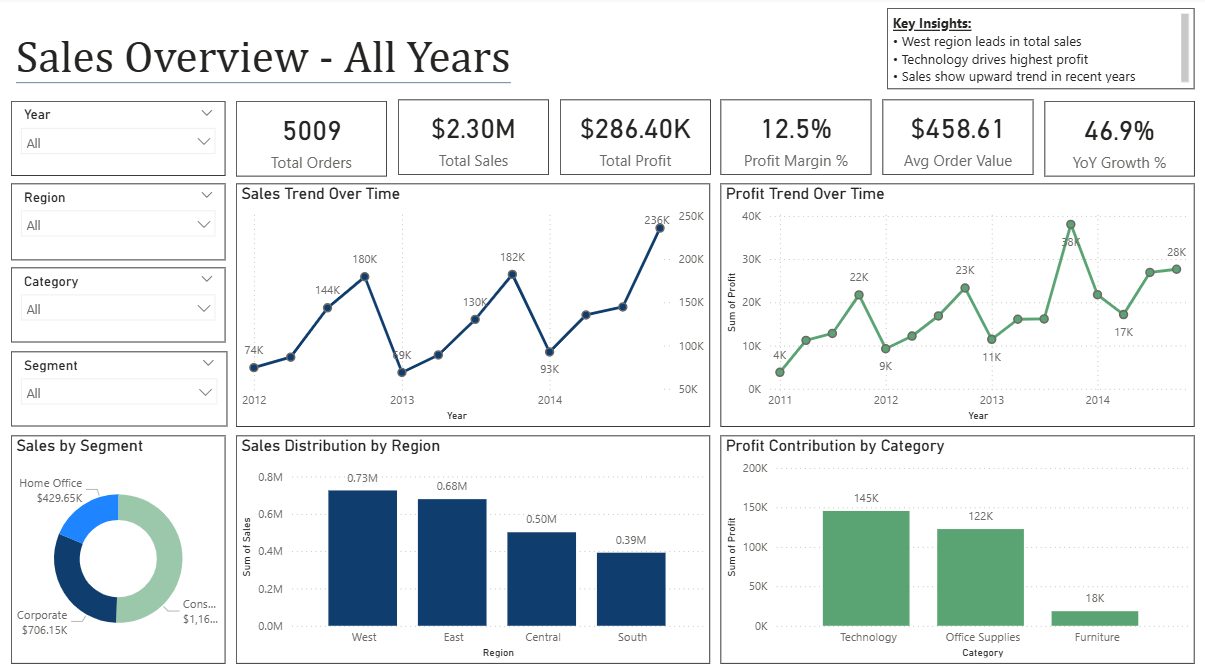

Layout of this report page (visuals, bound fields, positions):
{"tool":"powerbi","page":{"name":"Sales Analysis","canvas":[1280,720],"ordinal":0},"visuals":[{"type":"card","fields":{"Values":["Measure.Total Orders"]},"box":[250.9,111.3,160,80],"z":0},{"type":"card","fields":{"Values":["Measure.Total Sales"]},"box":[422.5,110.1,160,80],"z":1000},{"type":"card","fields":{"Values":["Measure.Total Profit"]},"box":[594.1,110.1,160,80],"z":2000},{"type":"card","fields":{"Values":["Measure.Profit Margin %"]},"box":[765.7,110.1,160,80],"z":3000},{"type":"card","fields":{"Values":["Measure.Average Order Value"]},"box":[937.3,110.1,160,80],"z":4000},{"type":"card","fields":{"Values":["Measure.YoY Growth %"]},"box":[1108.9,111.3,159.1,80],"z":5000},{"type":"slicer","fields":{"Values":["DimDate.Year"]},"box":[12.7,111.3,227.5,79.5],"z":6000},{"type":"slicer","fields":{"Values":["DimRegion.Region"]},"box":[12.7,198.8,227.5,81.1],"z":7000},{"type":"slicer","fields":{"Values":["DimProduct.Category"]},"box":[12.7,287.9,227.5,79.5],"z":8000},{"type":"slicer","fields":{"Values":["DimCustomer.Segment"]},"box":[12.7,377,229,79.5],"z":9000},{"type":"columnChart","title":"Sales Distribution by Region","fields":{"Category":["FactSales.Region"],"Y":["Sum(FactSales.Sales)"]},"box":[250.9,466,502.6,241.8],"z":10000},{"type":"clusteredColumnChart","title":"Profit Contribution by Category","fields":{"Category":["DimProduct.Category"],"Y":["Sum(FactSales.Profit)"]},"box":[765.3,466,502.6,241.8],"z":11000},{"type":"lineChart","title":"Sales Trend Over Time","fields":{"Category":["DimDate.Date.Variation.Date Hierarchy.Year","DimDate.Date.Variation.Date Hierarchy.Quarter","DimDate.Date.Variation.Date Hierarchy.Month","DimDate.Date.Variation.Date Hierarchy.Day"],"Y2":["Measure.Sales LY"]},"box":[250.9,198.8,502.6,257.7],"z":12000},{"type":"lineChart","title":"Profit Trend Over Time","fields":{"Y":["Sum(FactSales.Profit)"],"Category":["DimDate.Date.Variation.Date Hierarchy.Year","DimDate.Date.Variation.Date Hierarchy.Quarter","DimDate.Date.Variation.Date Hierarchy.Month","DimDate.Date.Variation.Date Hierarchy.Day"]},"box":[765.1,198.8,502.6,257.7],"z":13000},{"type":"textbox","box":[941.8,12.6,326.1,85.9],"z":14000},{"type":"textbox","box":[14.3,22.3,741.2,68.4],"z":15000},{"type":"donutChart","title":"Sales by Segment","fields":{"Y":["Measure.Total Sales"],"Category":["DimCustomer.Segment"]},"box":[12.7,466,227.5,241.8],"z":16000}]}

Visuals, with their boxes in screenshot pixels (x1, y1, x2, y2), scaled from the page's 1280x720 canvas onto the 1205x665 screenshot:
card - Measure.Total Orders: detection(236, 103, 387, 177)
card - Measure.Total Sales: detection(398, 102, 548, 176)
card - Measure.Total Profit: detection(559, 102, 710, 176)
card - Measure.Profit Margin %: detection(721, 102, 871, 176)
card - Measure.Average Order Value: detection(882, 102, 1033, 176)
card - Measure.YoY Growth %: detection(1044, 103, 1194, 177)
slicer - DimDate.Year: detection(12, 103, 226, 176)
slicer - DimRegion.Region: detection(12, 184, 226, 259)
slicer - DimProduct.Category: detection(12, 266, 226, 339)
slicer - DimCustomer.Segment: detection(12, 348, 228, 422)
"Sales Distribution by Region" columnChart: detection(236, 430, 709, 654)
"Profit Contribution by Category" clusteredColumnChart: detection(720, 430, 1194, 654)
"Sales Trend Over Time" lineChart: detection(236, 184, 709, 422)
"Profit Trend Over Time" lineChart: detection(720, 184, 1193, 422)
textbox: detection(887, 12, 1194, 91)
textbox: detection(13, 21, 711, 84)
"Sales by Segment" donutChart: detection(12, 430, 226, 654)
